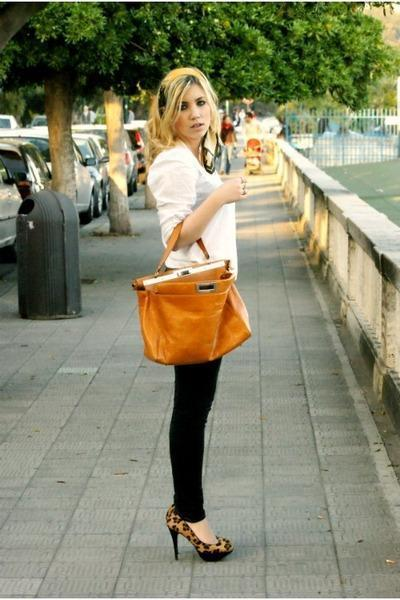bag: (132, 238, 264, 369)
pants: (169, 356, 221, 522)
shirt: (147, 143, 237, 282)
shoe: (174, 521, 237, 567)
